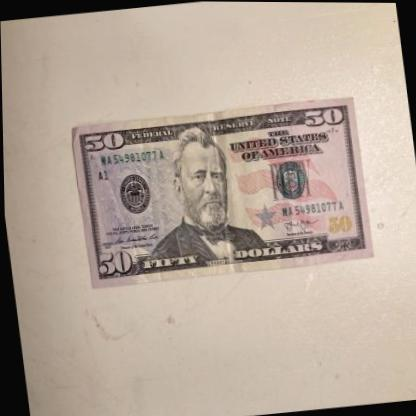fifty-front: (68, 94, 376, 290)
